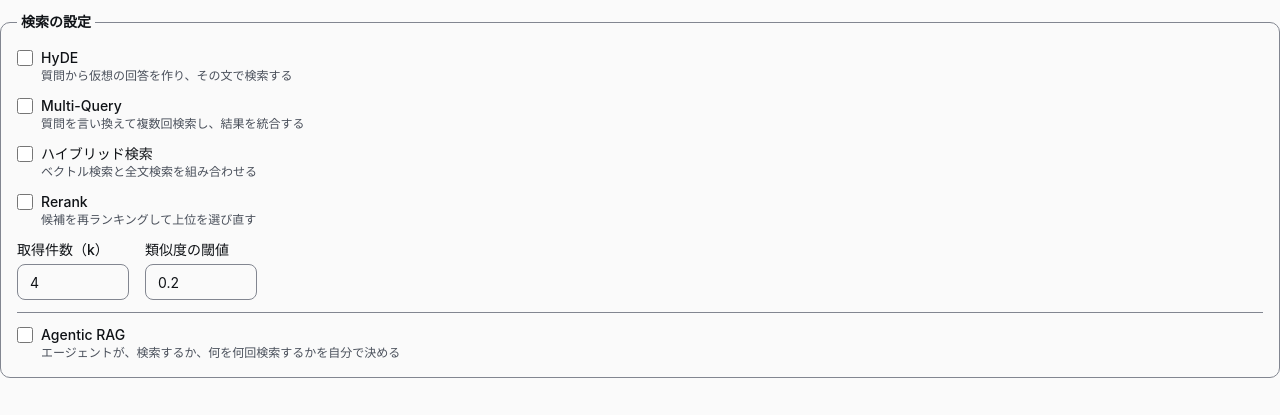
Test: MethodSwitches numeric inputs › does not pass 0 as the number of results
Replace the text in the number field labelled "取得件数（k）" with "0". click: (73, 282)
box: left=17, top=264, right=129, bottom=300
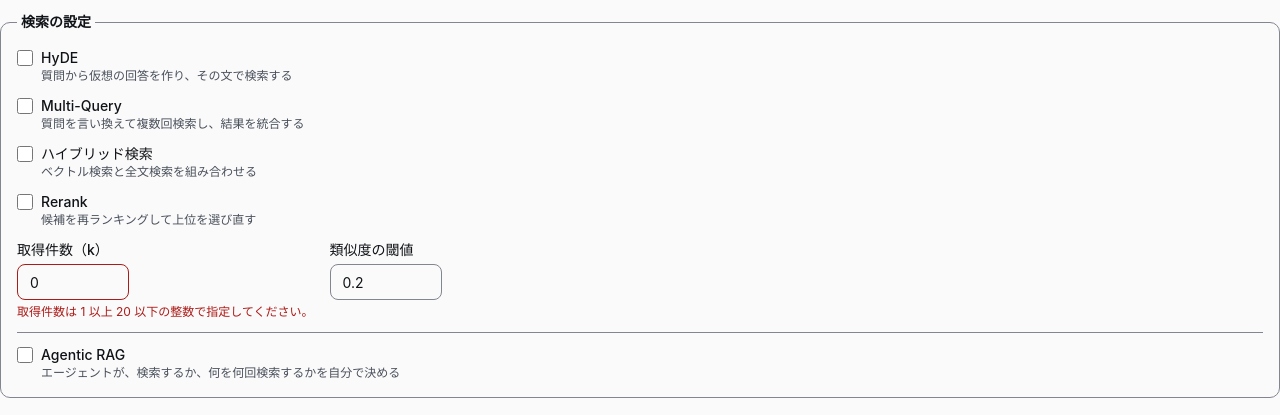
Expected: the message shows "1 以上 20 以下の整数", left=17, top=304, right=314, bottom=319
